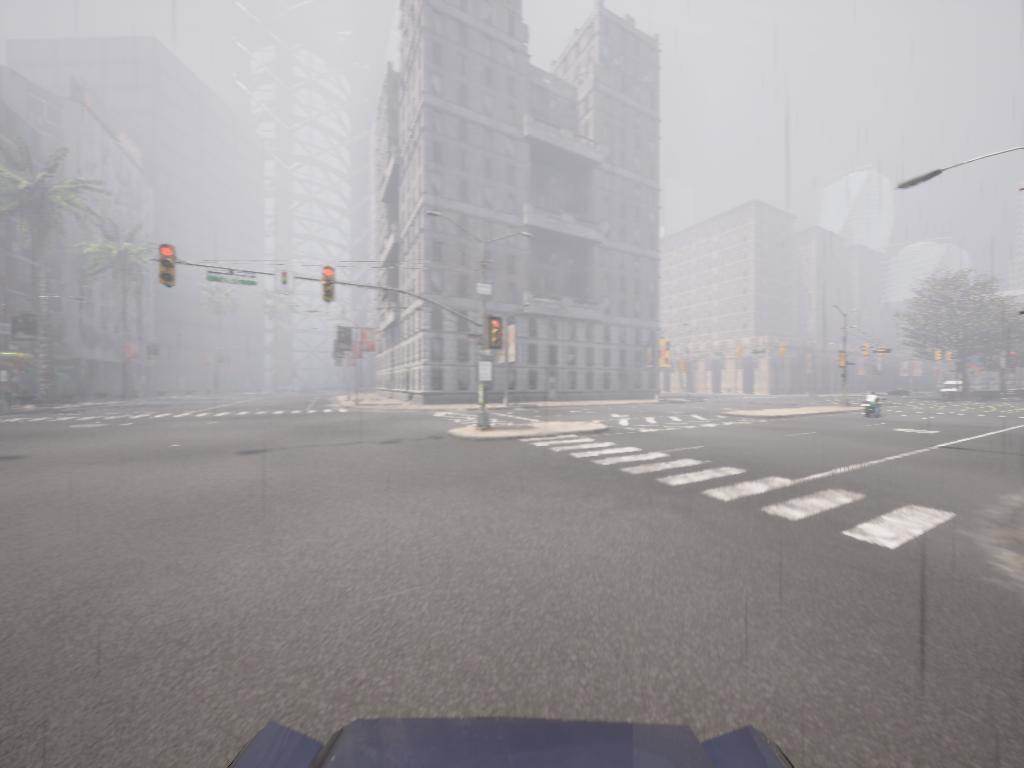traffic_light: (157, 247, 177, 289), (322, 268, 337, 303), (490, 320, 503, 350), (861, 346, 873, 361), (841, 350, 848, 371)
